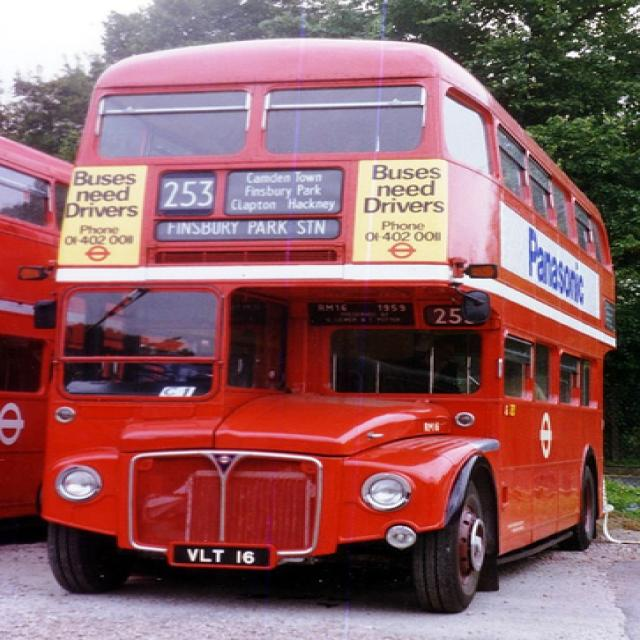bus: (37, 32, 617, 610)
